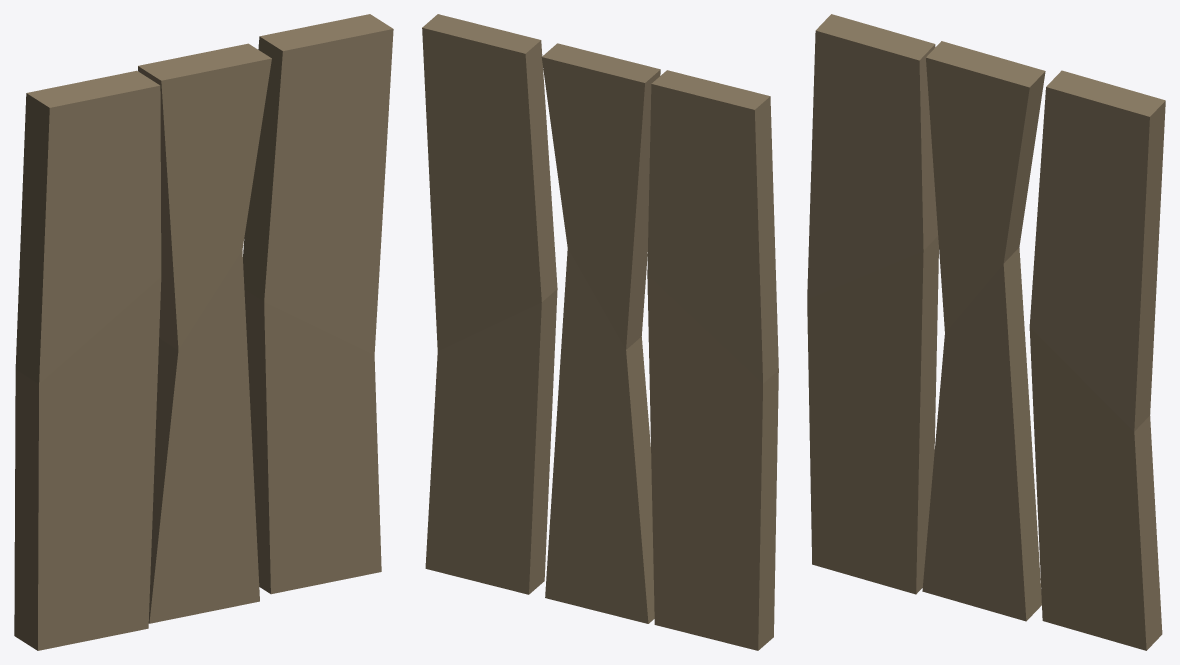
Rendered from Window_1_low.fbx.
3 views of the same model, side by side, from view 1: azimuth 30°, elevation 25°; view 2: azimuth 150°, elevation 25°; view 3: azimuth 330°, elevation 25° (orthographic).
Visible parts, largest first — view 1: Windows_1_low; view 2: Windows_1_low; view 3: Windows_1_low.
Boxes of the visible parts, bbox=[...] form: Windows_1_low: bbox=[14, 14, 393, 650]; Windows_1_low: bbox=[422, 14, 778, 650]; Windows_1_low: bbox=[807, 14, 1165, 650].
Bounding box in the file's own units: 0.6708 × 0.9912 × 0.0886.
